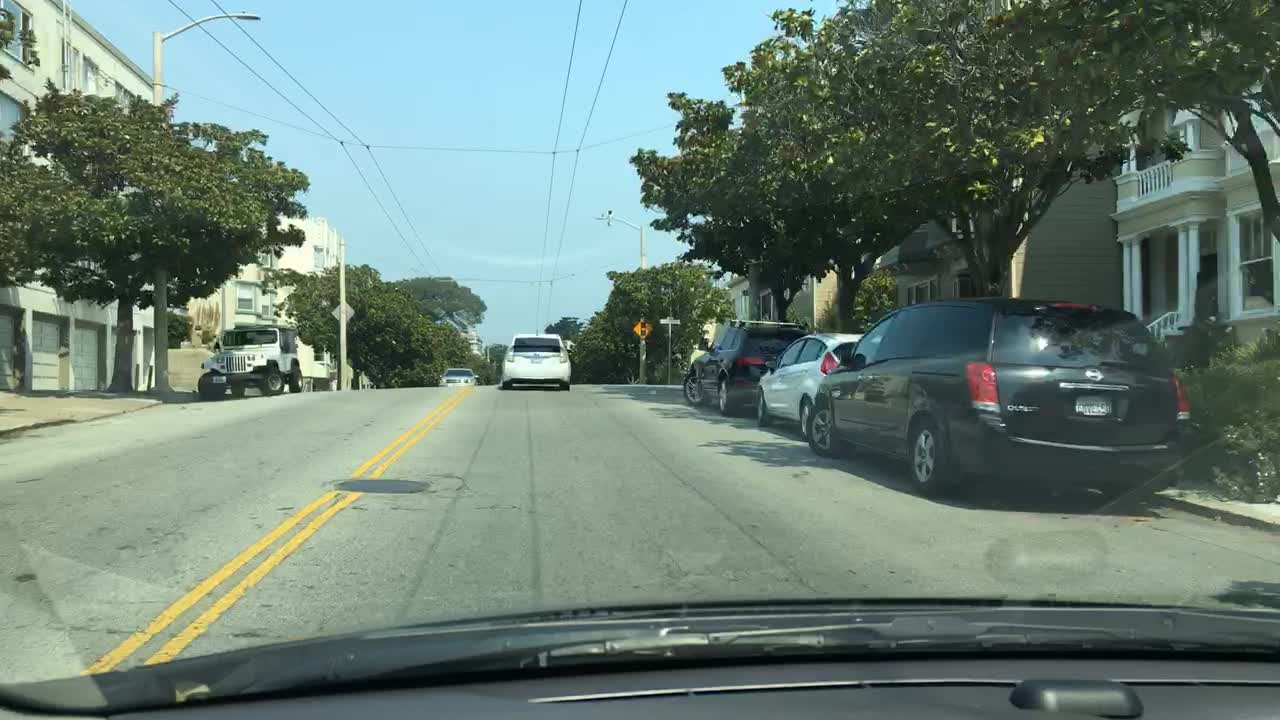car: (805, 293, 1198, 508), (681, 317, 811, 417), (752, 331, 867, 439), (195, 322, 302, 398), (499, 331, 573, 390), (435, 364, 481, 388)
traffic sign: (629, 315, 654, 342), (329, 300, 354, 322), (658, 314, 681, 326)
